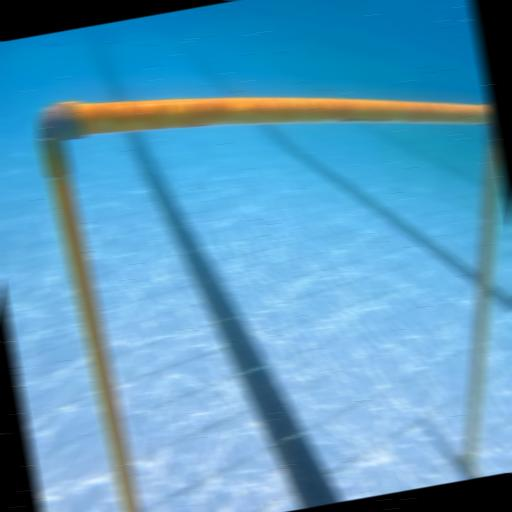gate: (29, 26, 512, 512)
